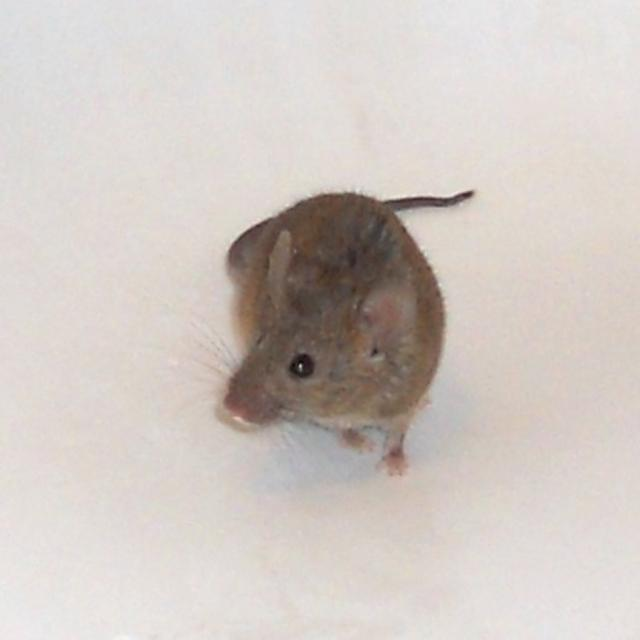rat: (210, 182, 477, 477)
